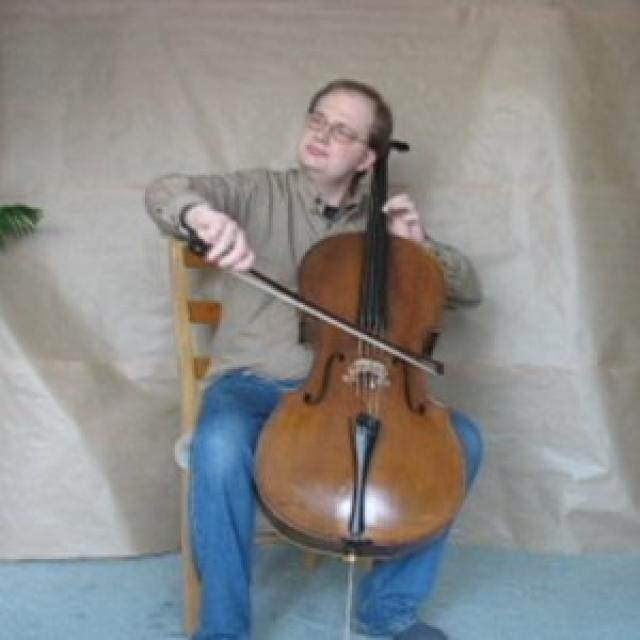cello: (252, 114, 469, 556)
